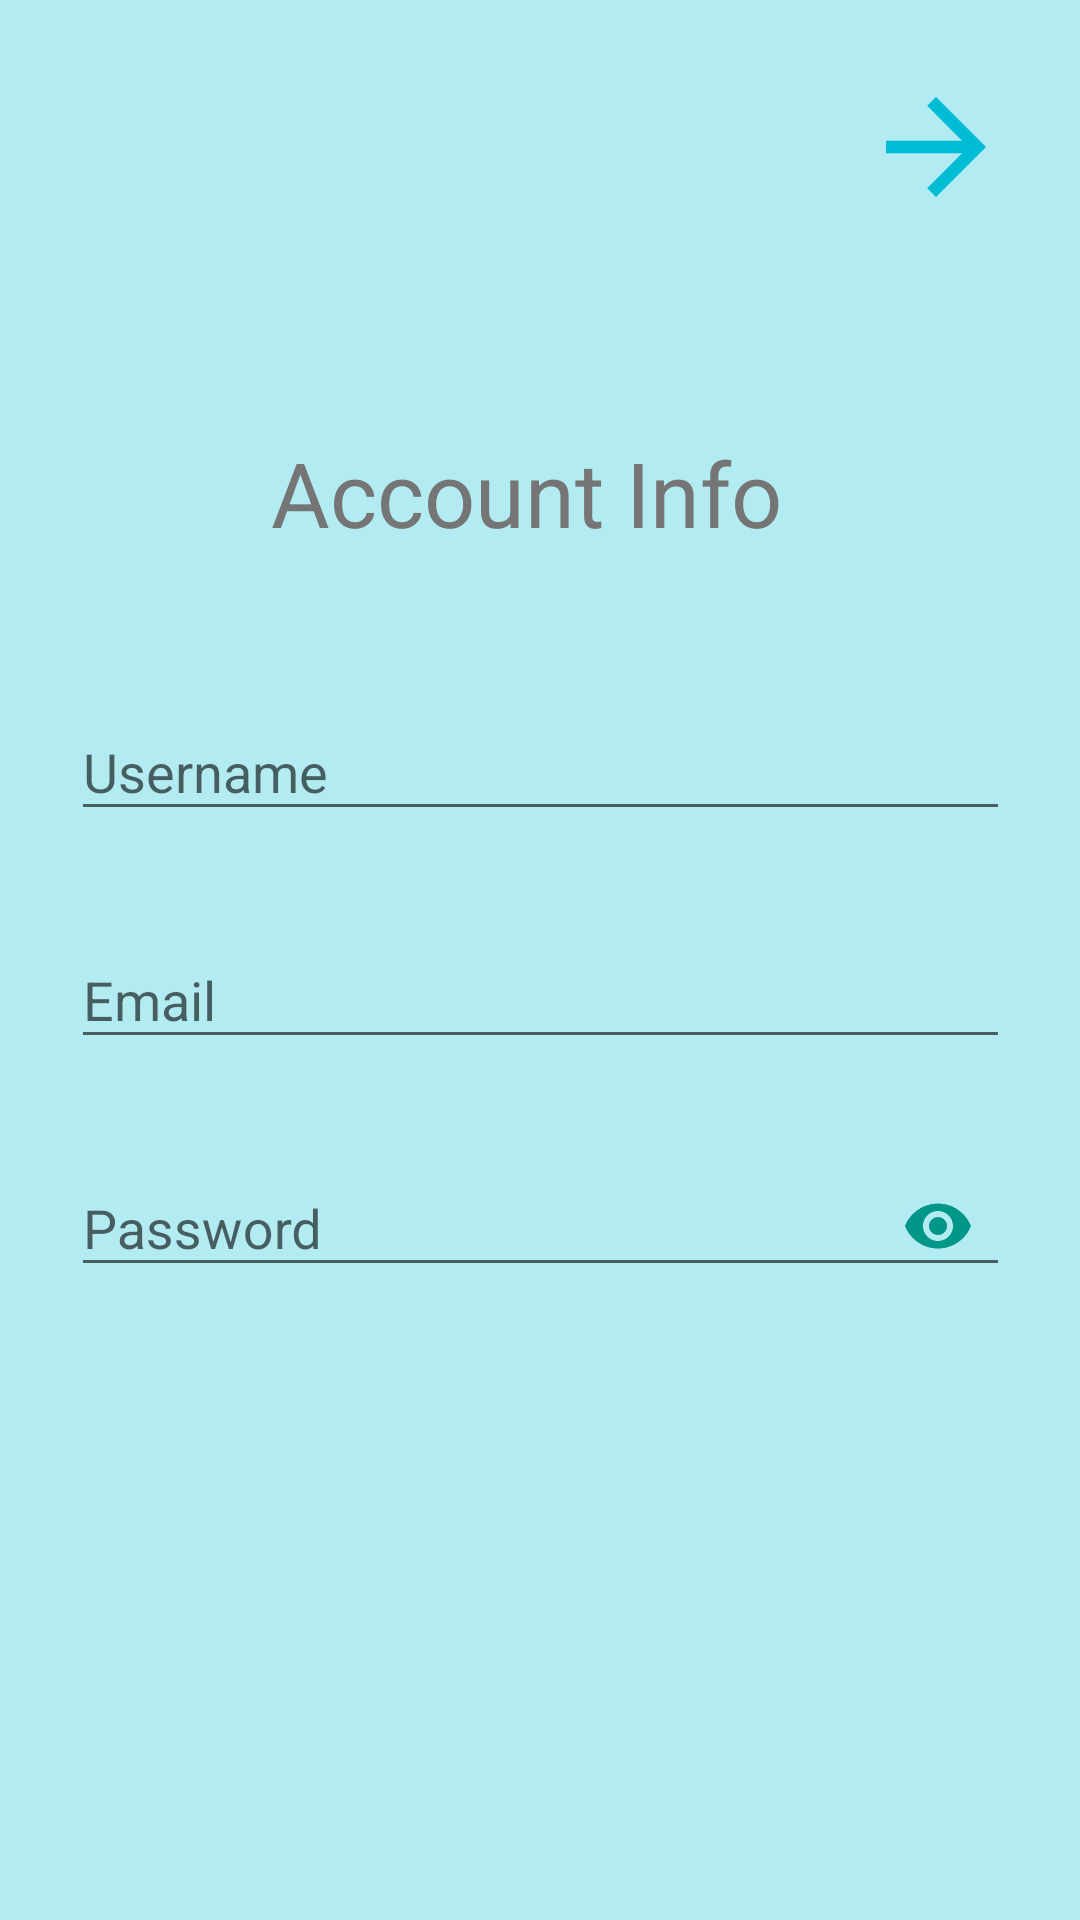

Where to tap for icons on this 1080w x 1920h app screen, as [x,y]:
Next: [936,147]
